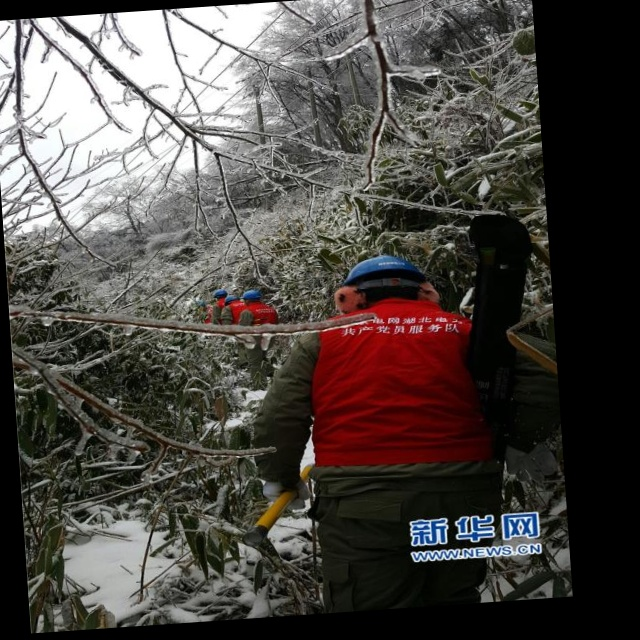Con_Casco: (343, 250, 426, 305)
